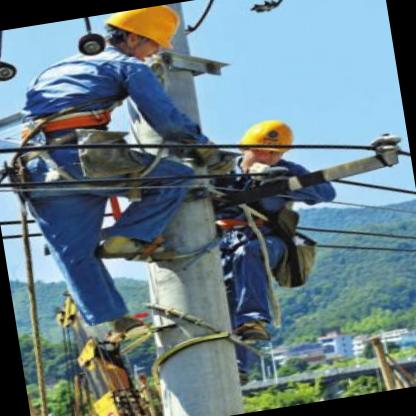helmet: (97, 2, 188, 67), (231, 112, 306, 174)
